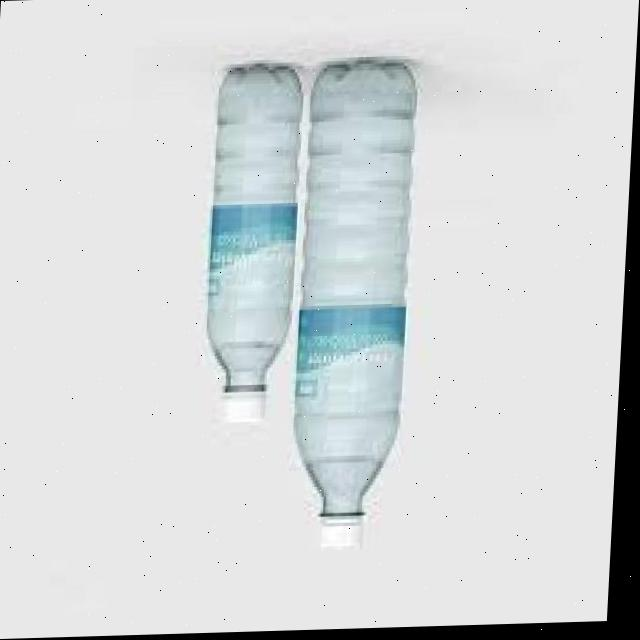bottle: (185, 31, 432, 564)
